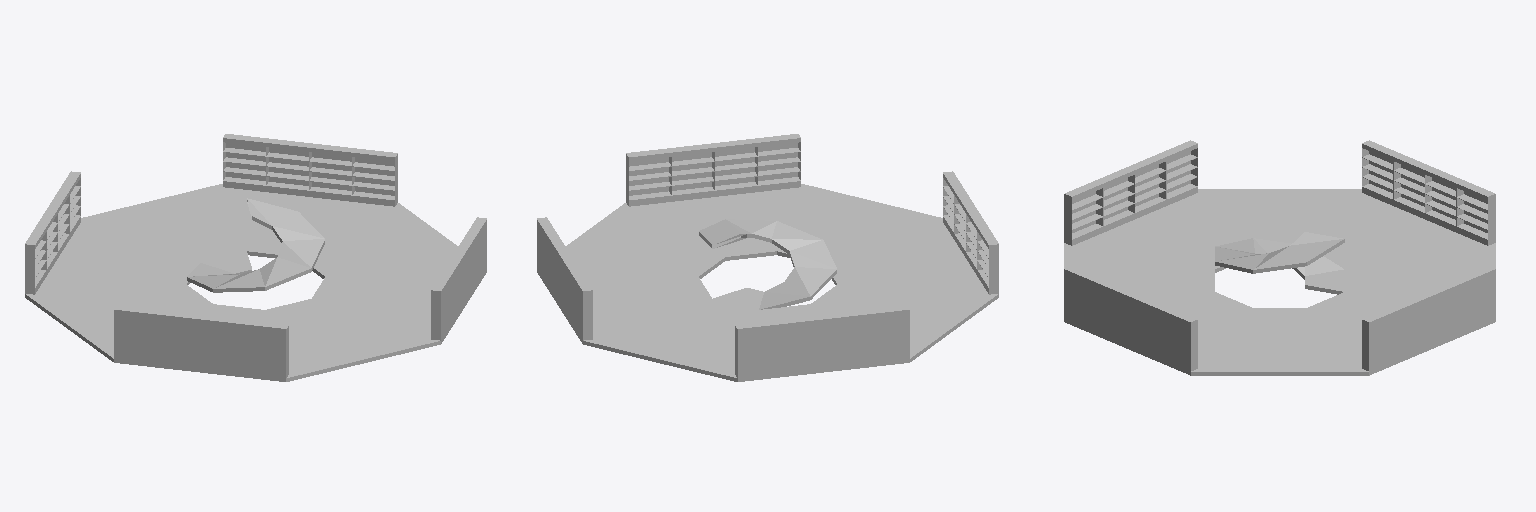
File: library_room.obj
3 renders of one model, left to right at view 1: azimuth 30°, elevation 25°; view 2: azimuth 150°, elevation 25°; view 3: azimuth 270°, elevation 25°, orthographic.
Visible parts, largest first — view 1: Floor_Cube; view 2: Floor_Cube; view 3: Floor_Cube.
Boxes of the visible parts, <box> form: Floor_Cube: <box>25,134,486,381</box>; Floor_Cube: <box>537,134,998,381</box>; Floor_Cube: <box>1064,140,1495,375</box>.
Bounding box in the file's own units: 20 × 2.92 × 20.